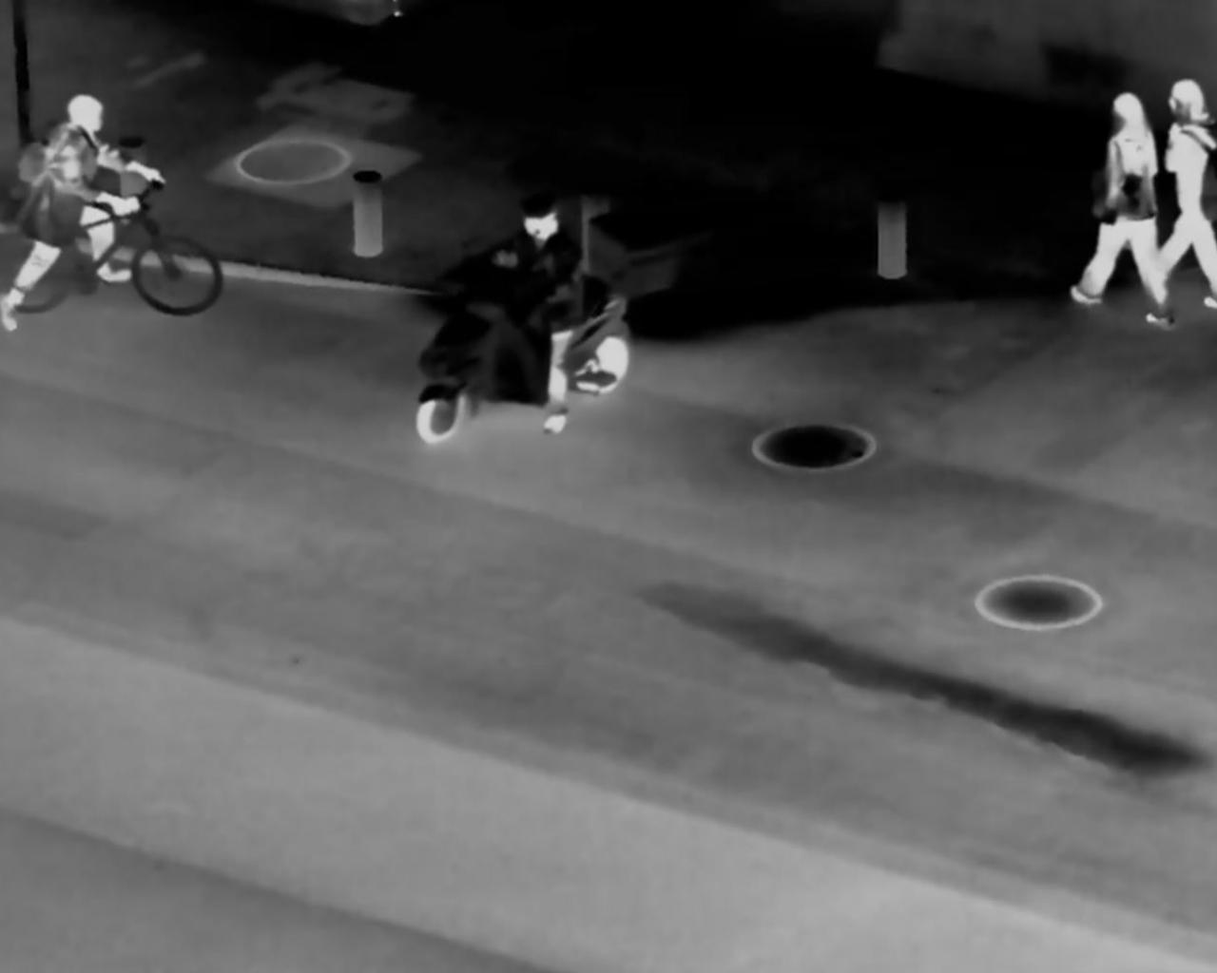person: (6, 90, 166, 327), (1070, 83, 1165, 316), (511, 187, 592, 441), (1155, 57, 1217, 320)
